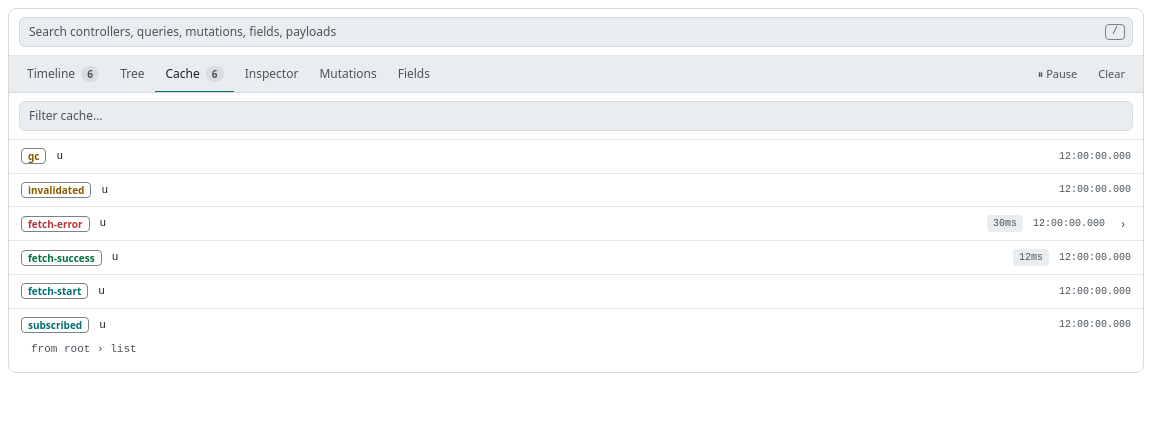
Test: Cache log › renders each kind newest-first with its colour, duration and detail
Expected: the text with class "olas-devtools-duration" reads "12ms", [1019, 252, 1043, 263]
Expected: the text with class "olas-devtools-duration" reads "30ms", [993, 218, 1017, 229]
What coordinates should you click on to do the following:
click the element with class "olas-devtools-row-top" that starts with "fetch-error"
I would click on:
 (55, 224)
Its box is [21, 214, 1125, 232].
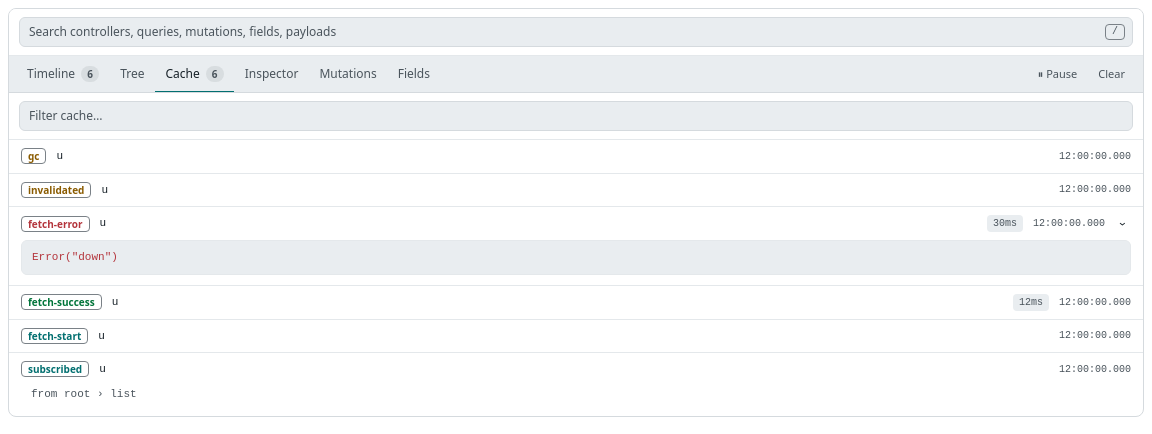
Expected: the text "›" is shown, [1115, 222, 1132, 225]
Expected: the element with class "olas-devtools-payload-json" reads "Error(\"down\")", [21, 240, 1131, 274]
What coordinates should you click on to do the following:
click the element with class "olas-devtools-row-top" that starts with "fetch-error"
I would click on:
 (55, 224)
Its box is [21, 215, 1132, 232].
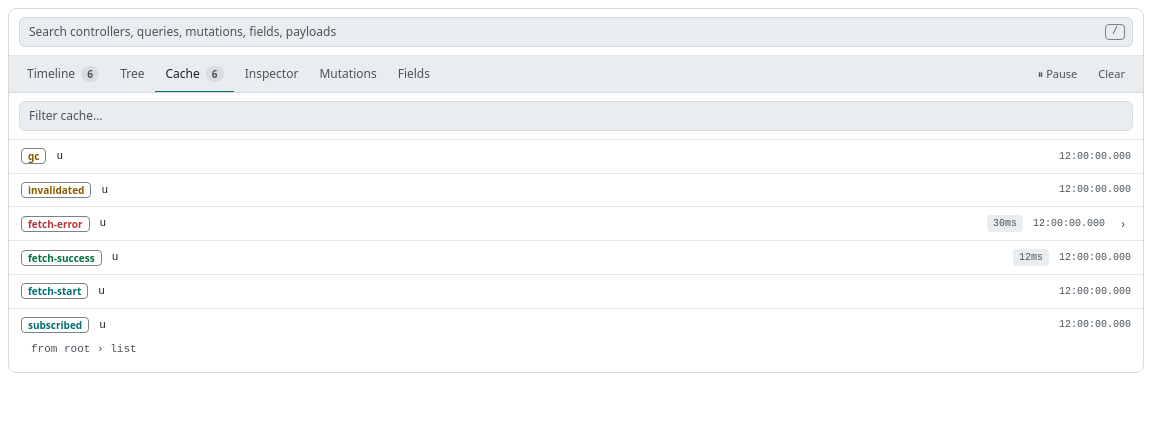
Expected: the element with class "olas-devtools-payload-json" is gone
